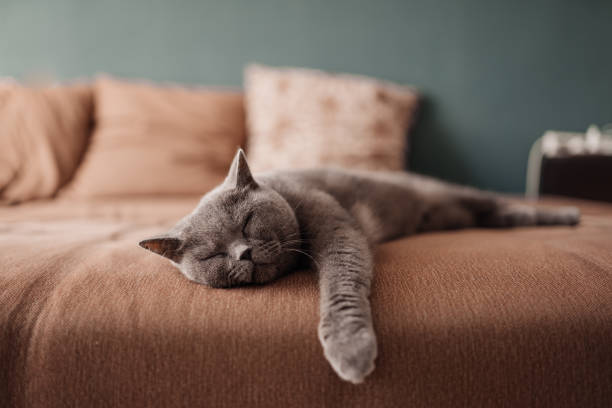Cat: (124, 123, 593, 401)
